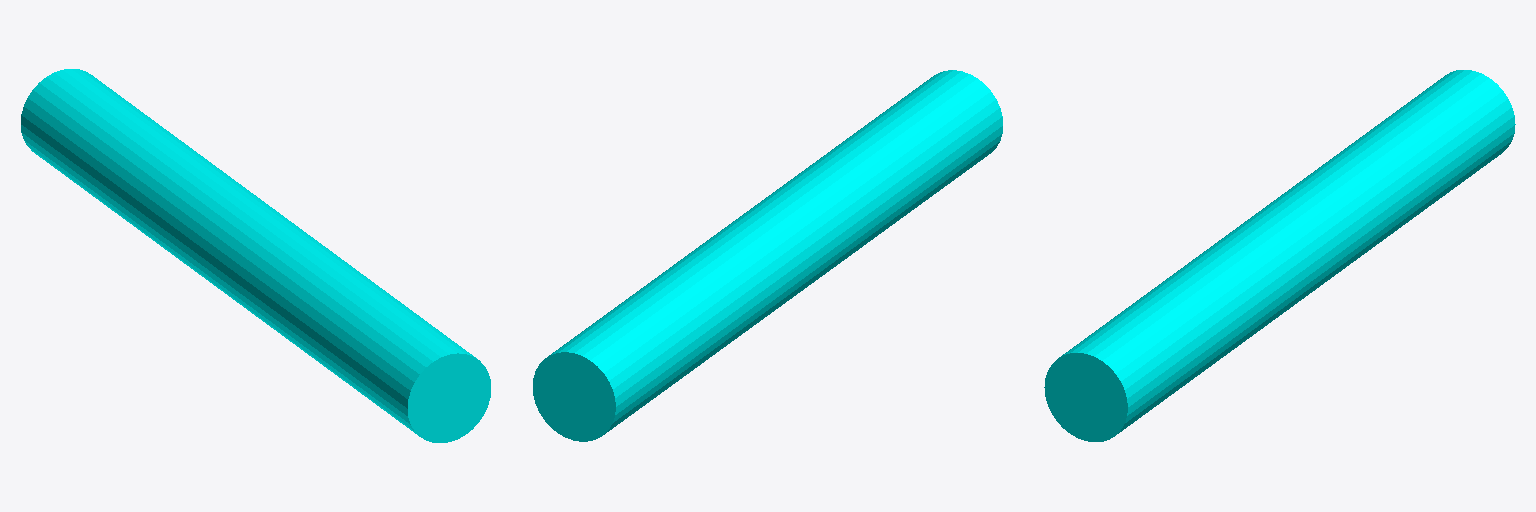
robot.urdf — botanbot:
<?xml version="1.0"?>
<robot name="botanbot" xmlns:xacro="http://ros.org/wiki/xacro">
    <!-- BEGIN LINKS                      -->
    <!-- BEGIN LINKS RELATED TO ROBOT BODY-->
    <link name="base_link">
        <visual>
            <origin xyz="-0.019375 0.005287 0.340756" rpy="0 0 0" />
            <geometry>
                <mesh filename="[local-path]/colcon_ws/install/vox_nav_drake_ros/share/vox_nav_drake_ros/meshes/base_simplified.obj" />
            </geometry>
            <material name="Cyan">
                <color rgba="0 1.0 1.0 1.0" />
            </material>
        </visual>

        <inertial>
            <mass value="1326.0" />
            <inertia ixx="2581.13354740" ixy="0" ixz="0" iyy="591.30846112" iyz="0" izz="2681.9500862" />
        </inertial>
    </link>

    <link name='steering_wheel'>
        <visual name='visual'>
            <origin xyz="0 0 0" rpy="1.57 0 0" />
            <geometry>
                <mesh filename="[local-path]/colcon_ws/install/vox_nav_drake_ros/share/vox_nav_drake_ros/meshes/wheel_simplified.obj" scale="0.5 0.5 0.5" />
            </geometry>
            <material name="Red">
                <color rgba="1.0 0 0 0.6" />
            </material>
        </visual>

        <inertial>
            <mass value="1" />
            <inertia ixx="0.14583300" ixy="0" ixz="0" iyy="0.14583300" iyz="0" izz="0.12500000" />
        </inertial>
    </link>
    <link name='front_left_wheel'>
        <visual name='visual'>
            <origin xyz="0 0 0" rpy="0 0 1.57" />
            <geometry>
                <mesh filename="[local-path]/colcon_ws/install/vox_nav_drake_ros/share/vox_nav_drake_ros/meshes/wheel_simplified.obj" scale="1 1 1" />
            </geometry>
            <material name="Red">
                <color rgba="1.0 0 0 0.6" />
            </material>
        </visual>

        <inertial>
            <mass value="1" />
            <inertia ixx="0.14583300" ixy="0" ixz="0" iyy="0.14583300" iyz="0" izz="0.12500000" />
        </inertial>
    </link>
    <link name='front_right_wheel'>
        <visual name='visual'>
            <origin xyz="0 0 0" rpy="0 0 1.57" />
            <geometry>
                <mesh filename="[local-path]/colcon_ws/install/vox_nav_drake_ros/share/vox_nav_drake_ros/meshes/wheel_simplified.obj" scale="1 1 1" />
            </geometry>
            <material name="Red">
                <color rgba="1.0 0 0 0.6" />
            </material>
        </visual>

        <inertial>
            <mass value="1" />
            <inertia ixx="0.14583300" ixy="0" ixz="0" iyy="0.14583300" iyz="0" izz="0.12500000" />
        </inertial>
    </link>
    <link name='rear_left_wheel'>
        <visual name='visual'>
            <origin xyz="0 0 0" rpy="0 0 1.57" />
            <geometry>
                <mesh filename="[local-path]/colcon_ws/install/vox_nav_drake_ros/share/vox_nav_drake_ros/meshes/wheel_simplified.obj" scale="1 1 1" />
            </geometry>
            <material name="Red">
                <color rgba="1.0 0 0 0.6" />
            </material>
        </visual>

        <inertial>
            <mass value="1" />
            <inertia ixx="0.14583300" ixy="0" ixz="0" iyy="0.14583300" iyz="0" izz="0.12500000" />
        </inertial>
    </link>
    <link name='rear_right_wheel'>
        <visual name='visual'>
            <origin xyz="0 0 0" rpy="0 0 1.57" />
            <geometry>
                <mesh filename="[local-path]/colcon_ws/install/vox_nav_drake_ros/share/vox_nav_drake_ros/meshes/wheel_simplified.obj" scale="1 1 1" />
            </geometry>
            <material name="Red">
                <color rgba="1.0 0 0 0.6" />
            </material>
        </visual>

        <inertial>
            <mass value="1" />
            <inertia ixx="0.14583300" ixy="0" ixz="0" iyy="0.14583300" iyz="0" izz="0.12500000" />
        </inertial>
    </link>
    <link name='rear_axle'>
        <visual name='visual'>
            <origin xyz="0 0 0" rpy="1.57 -0 1.57" />
            <geometry>
                <cylinder radius="0.043346" length="0.694281" />
            </geometry>
            <material name="Cyan">
                <color rgba="0 1.0 1.0 1.0" />
            </material>
        </visual>

        <inertial>
            <mass value="1" />
            <inertia ixx="0.14583300" ixy="0" ixz="0" iyy="0.14583300" iyz="0" izz="0.12500000" />
        </inertial>
    </link>
    <!-- END LINKS RELATED TO ROBOT BODY-->
    <!--////////////////////////////////-->
    <!-- END LINKS       
                       -->
    <!--////////////////////////////////////-->
    <!-- BEGIN JOINTS                       -->
    <!-- BEGIN JOINTS RELATED TO ROBOT BODY -->

    <joint name='front_left_combined_joint' type='revolute'>
        <parent link="base_link" />
        <child link="front_left_wheel" />
        <origin xyz="0.653624 0.496194 -0.084805" rpy="0 -0 1.5706" />
        <axis xyz="0 0 1" />
    </joint>
    <joint name='front_right_combined_joint' type='revolute'>
        <parent link="base_link" />
        <child link="front_right_wheel" />
        <origin xyz="0.666123 -0.495391 -0.085288" rpy="0 0 1.5706" />
        <axis xyz="0 0 1" />
    </joint>
    <joint name='rear_axle_joint' type='continuous'>
        <parent link="base_link" />
        <child link="rear_axle" />
        <origin xyz="-0.656403 0.001088 -0.085593" rpy="0 0 1.57" />
        <dynamics damping="2000.0" friction="0.0" />
        <limit effort="0" velocity="0.0" lower="-0.05" upper="0.05" />
        <axis xyz="0 1 0" />
    </joint>
    <joint name='rear_left_joint' type='continuous'>
        <parent link="base_link" />
        <child link="rear_left_wheel" />
        <origin xyz="-0.656583 0.492236 -0.085593" rpy="0 -0 1.5706" />
        <axis xyz="1 0 0" />
    </joint>
    <joint name='rear_right_joint' type='continuous'>
        <parent link="base_link" />
        <child link="rear_right_wheel" />
        <origin xyz="-0.644212 -0.499228 -0.085214" rpy="0 -0 1.5706" />
        <axis xyz="1 0 0" />
    </joint>
    <joint name='steering_joint' type='continuous'>
        <parent link="base_link" />
        <child link="steering_wheel" />
        <origin xyz="0.400132 9.3e-05 0.399996" rpy="0 -1.57 0" />
        <axis xyz="0 0 1" />
    </joint>

</robot>

--- Facts derived from the render (not from the file) ---
The picture shows the robot from 3 angles, left to right: view 1: azimuth 30°, elevation 25°; view 2: azimuth 150°, elevation 25°; view 3: azimuth 330°, elevation 25°; orthographic projection.
Model botanbot with 7 links and 6 joints (2 revolute, 4 continuous), rooted at base_link, posed every joint at zero.
Links seen in each view (by area): view 1: rear_axle; view 2: rear_axle; view 3: rear_axle.
Boxes of the visible links, x1,y1,x2,y2 form: rear_axle: (21, 69, 490, 442); rear_axle: (533, 70, 1002, 441); rear_axle: (1044, 70, 1515, 441).
Bounding box of the posed robot: 0.0878 × 0.6944 × 0.0872 m (x, y, z).
Geometry: only primitive shapes (box / cylinder / sphere) drawn; not drawn: 6 mesh visuals (reference in a form the renderer does not follow).